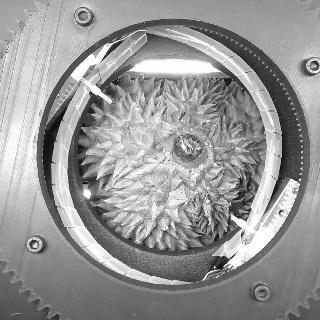base: (166, 129, 215, 173)
end: (172, 133, 205, 164)
